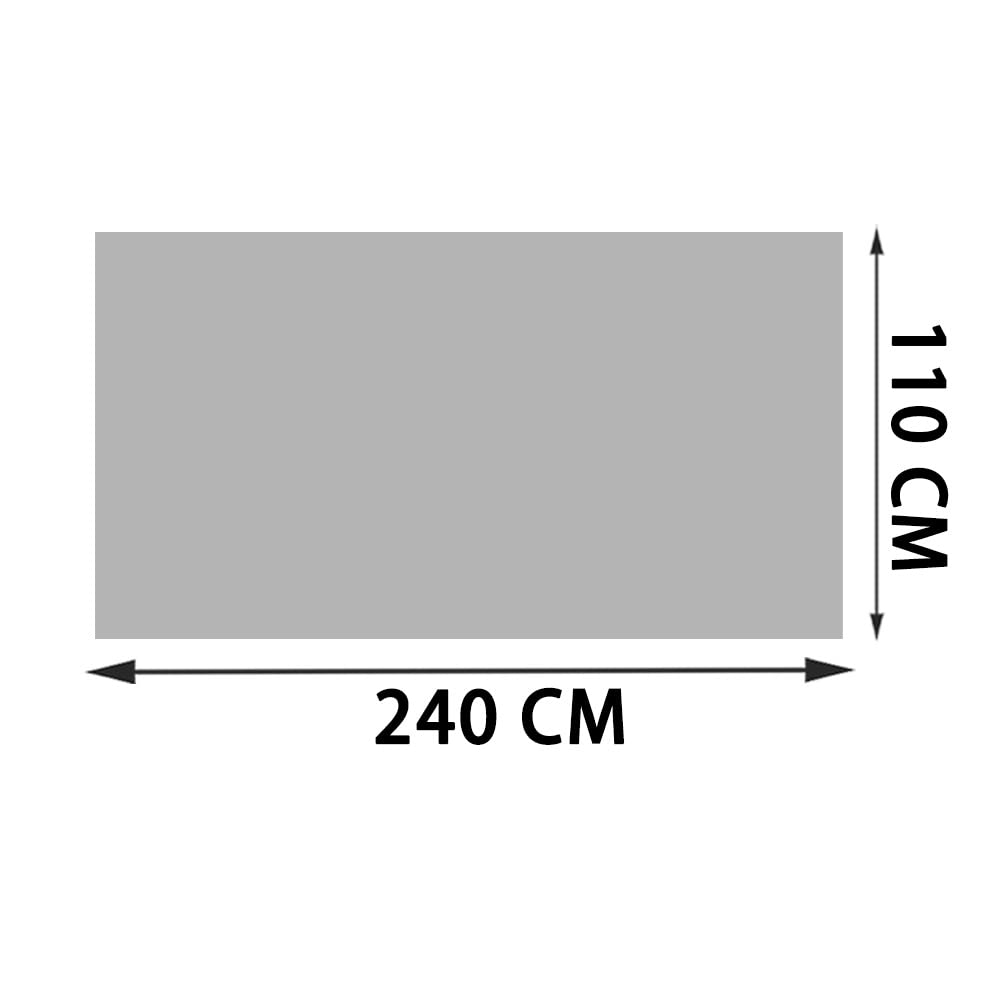110: (891, 325, 948, 443)
240: (375, 688, 497, 745)
CM: (522, 687, 624, 745), (891, 485, 949, 570)
